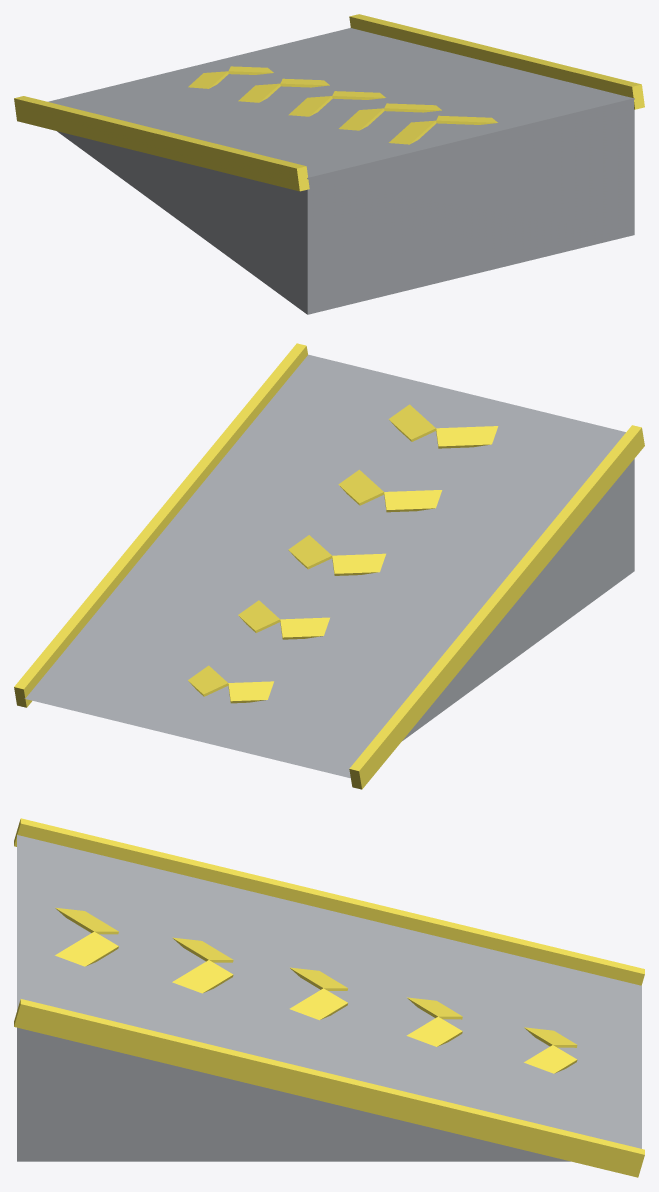
The model's file is rc_ramp.glb.
3 renders of one model, top to bottom at view 1: azimuth 30°, elevation 25°; view 2: azimuth 150°, elevation 25°; view 3: azimuth 270°, elevation 25°, orthographic. The views are drawn at different scales.
Parts seen in each view (by area): view 1: rc_ramp; view 2: rc_ramp; view 3: rc_ramp.
Boxes of the visible parts, left/top/right/bottom form: rc_ramp: left=14, top=14, right=644, bottom=314; rc_ramp: left=14, top=343, right=644, bottom=789; rc_ramp: left=14, top=818, right=644, bottom=1177.
Bounding box in the file's own units: 4.22 × 1.84 × 6.06.
